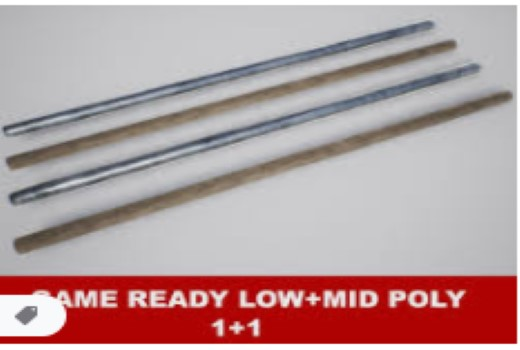baston_e: (27, 89, 503, 258), (21, 64, 469, 208), (21, 41, 442, 170), (21, 18, 420, 139)
baston_v: (6, 232, 33, 260), (442, 30, 465, 52), (1, 186, 21, 211), (0, 116, 19, 142), (2, 148, 21, 173), (497, 79, 513, 108), (465, 55, 484, 78), (419, 9, 436, 32)
